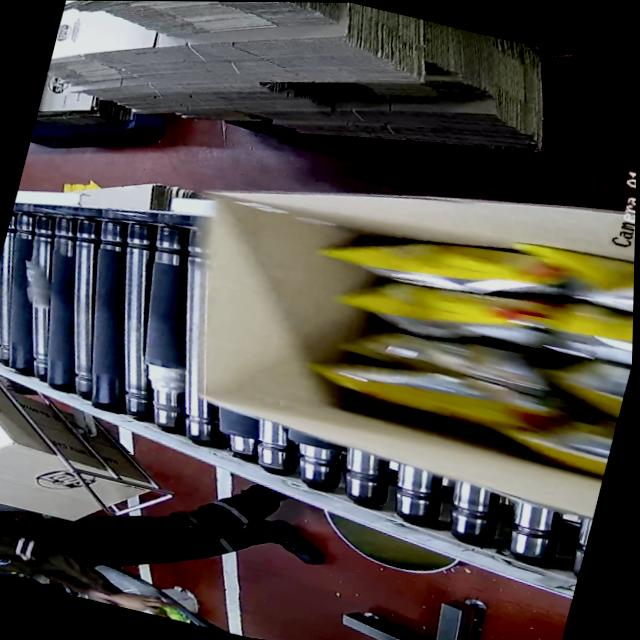SALTED: (258, 162, 636, 487)
